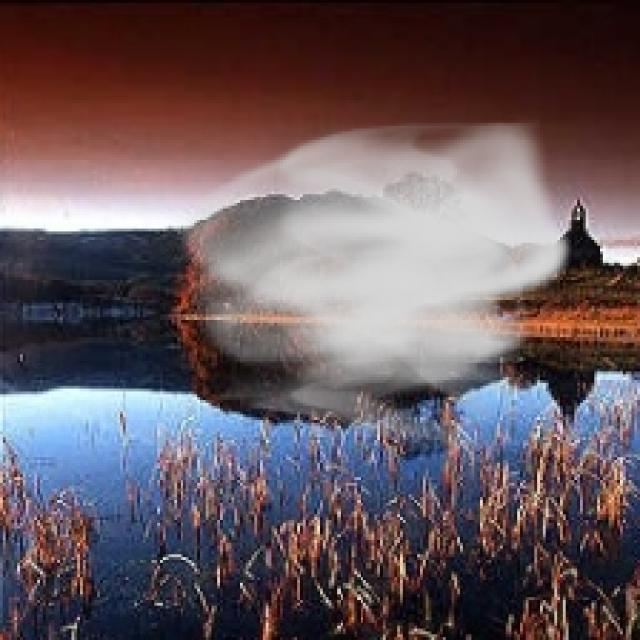smoke: (166, 112, 574, 454)
